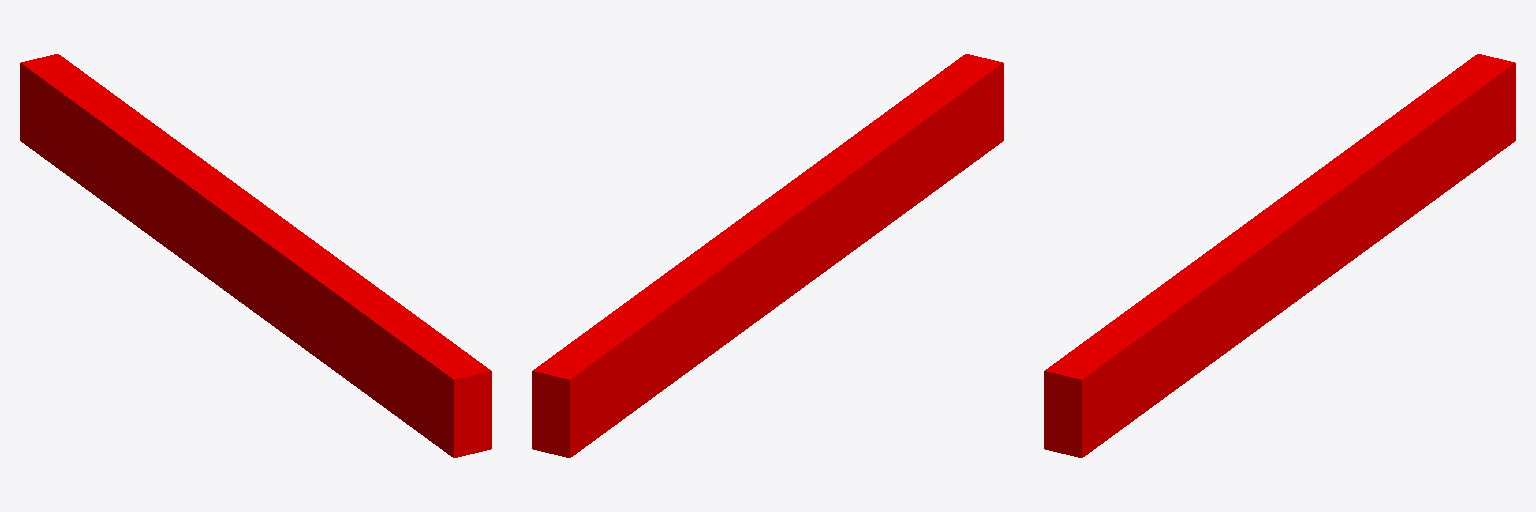
The robot description file, URDF, robot "ball":
<?xml version="0.0" ?>
<robot name="ball">
    <link name="wall">
        <contact>
            <lateral_friction value="1"/>
        </contact>

        <inertial>
            <origin xyz="0 0 0" rpy="0 0 0"/>
            <mass value="0.0"/>
            <inertia ixx="0"  ixy="0"  ixz="0" iyy="0" iyz="0" izz="0" />
        </inertial>

        <visual>
            <origin xyz="0 0 0" rpy="0 0 0" />
            <geometry>
                <box size="0.1 2.0 0.2" />
            </geometry>
            <material name="Red">
                <color rgba="1.0 0.0 0.0 1.0"/>
            </material>
        </visual>

        <collision>
            <origin xyz="0 0 0" rpy="0 0 0"/>
            <geometry>
                <box size="0.1 2.0 0.2" />
            </geometry>
        </collision>
    </link>
</robot>

--- What the picture shows (computed from the rendered views, not written in the file) ---
Views: 3 orthographic renders of the robot side by side, from view 1: azimuth 30°, elevation 25°; view 2: azimuth 150°, elevation 25°; view 3: azimuth 330°, elevation 25°.
Model ball with 1 links and 0 joints (none), rooted at wall, posed all joints at 0.
Visible links, largest first — view 1: wall; view 2: wall; view 3: wall.
Boxes of the visible links, x1=… form: wall: x1=20, y1=54, x2=491, y2=457; wall: x1=532, y1=54, x2=1003, y2=457; wall: x1=1044, y1=54, x2=1515, y2=457.
Size in the robot's own frame: 0.1 by 2 by 0.2 metres.
Geometry: primitives only (box / cylinder / sphere), no mesh files.